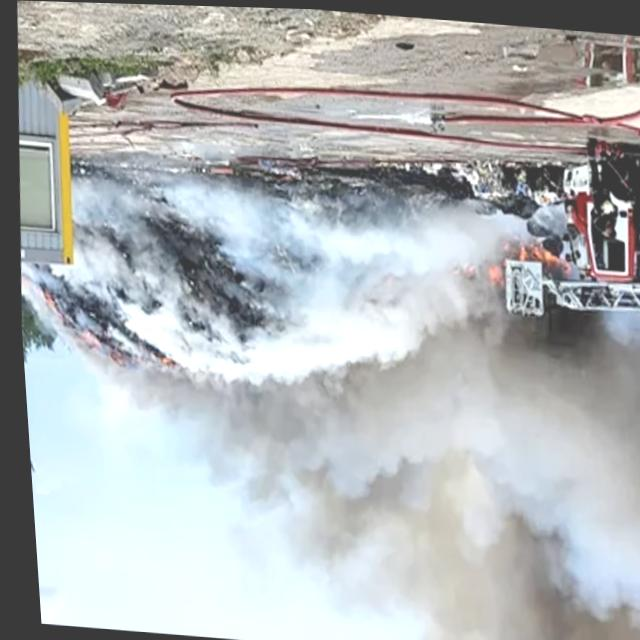no_helmet: (8, 159, 640, 640)
